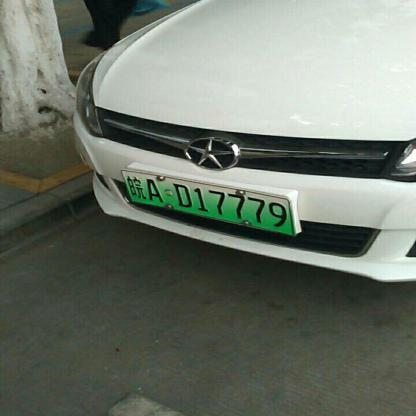lp: (121, 168, 295, 234)
